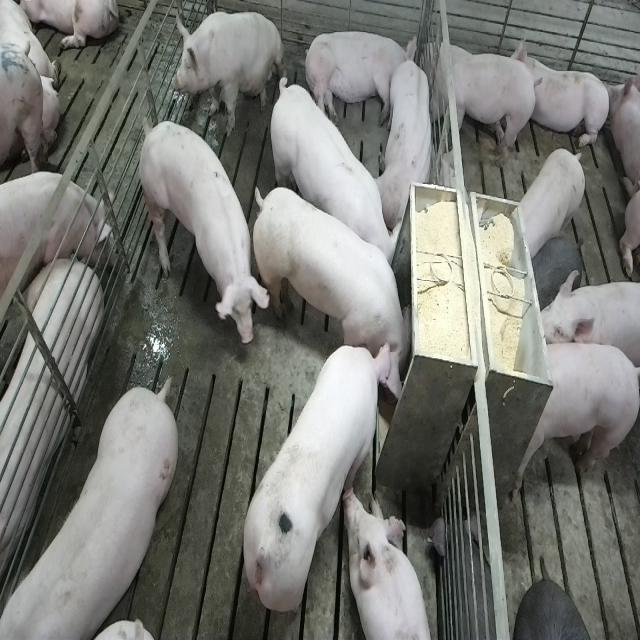Feeding: (241, 338, 401, 619), (255, 177, 421, 382)
Lateral_lying: (0, 254, 101, 609), (302, 28, 418, 127)
Sitting: (171, 8, 285, 136)
Standing: (0, 380, 174, 639), (136, 115, 265, 344), (266, 74, 398, 286), (514, 341, 638, 498), (422, 32, 538, 170), (535, 273, 640, 417), (0, 170, 114, 302), (514, 148, 588, 262)
Sternal_lying: (345, 489, 433, 640), (514, 34, 612, 155), (377, 55, 437, 231)
